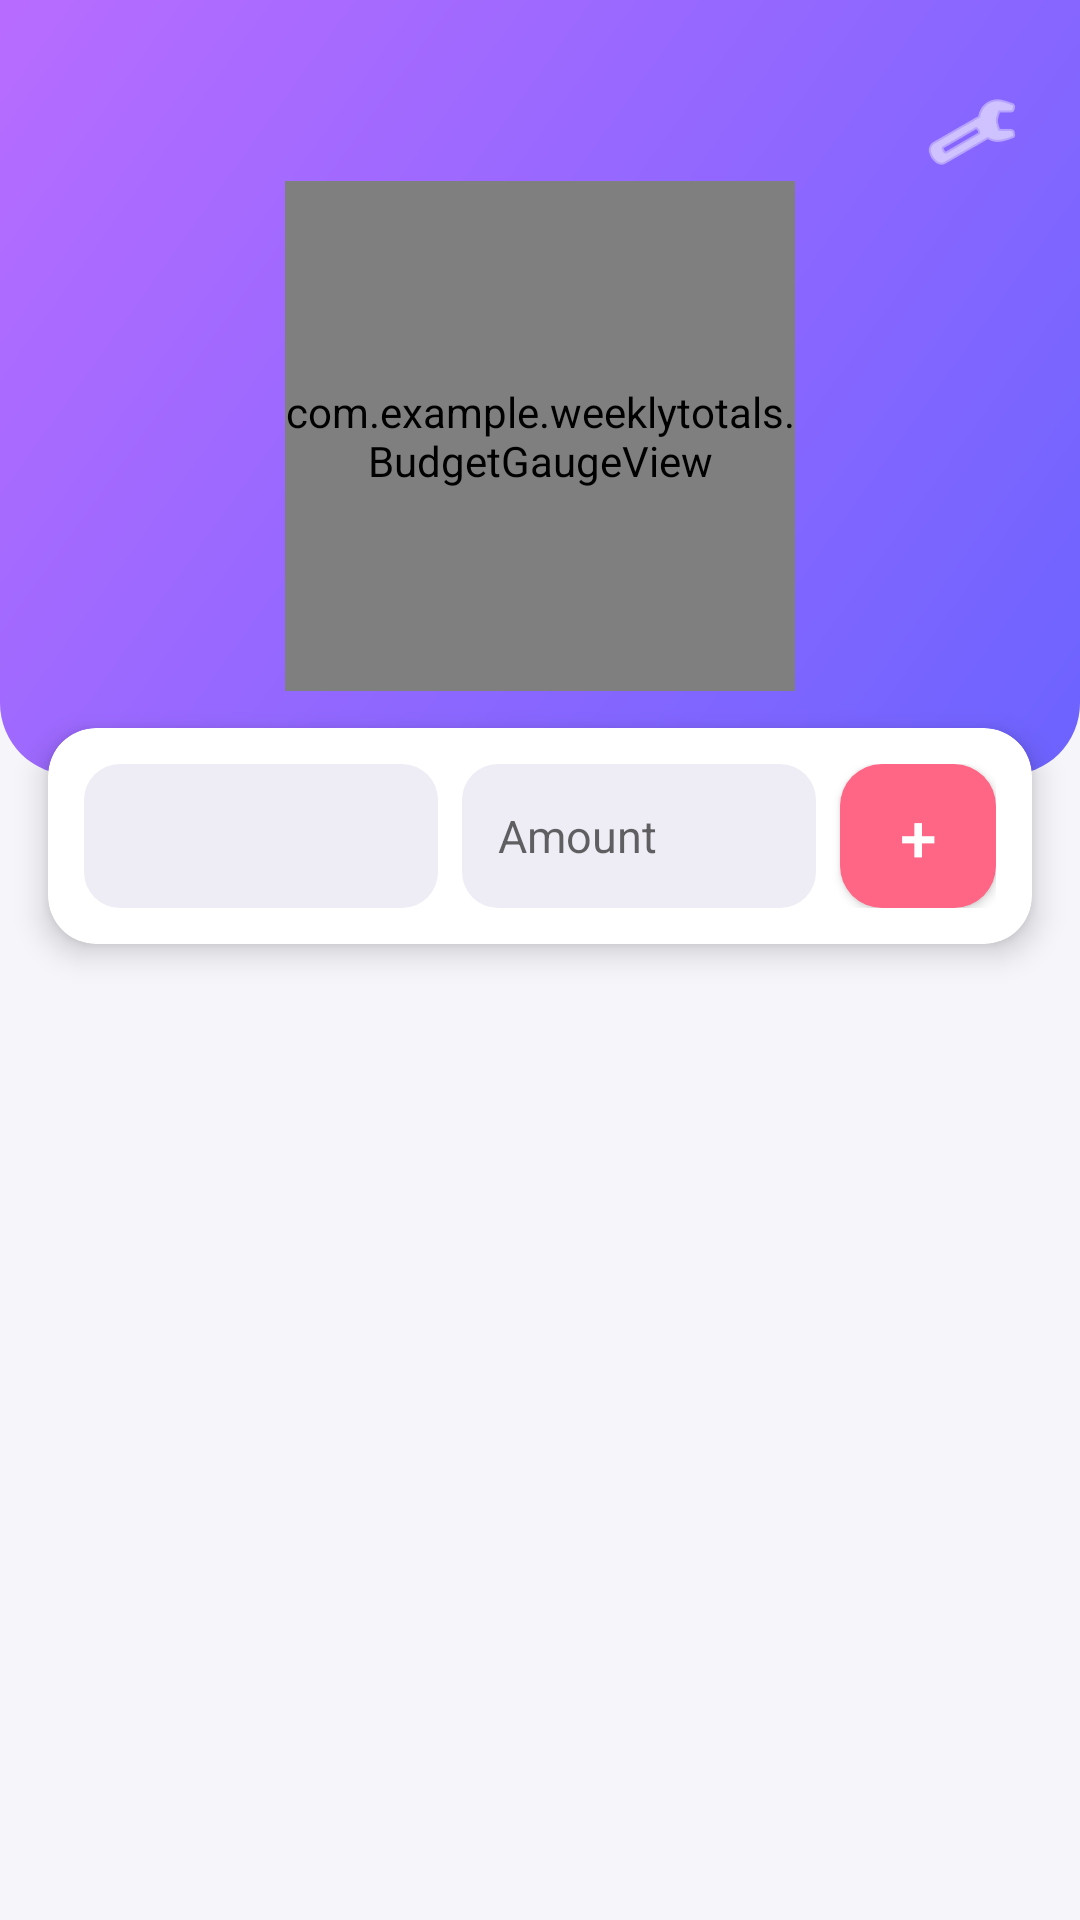

Where icons sit on this 1080*1920 app screen, as (x1, y1, x2, y2):
Settings: (929, 99, 1015, 165)
